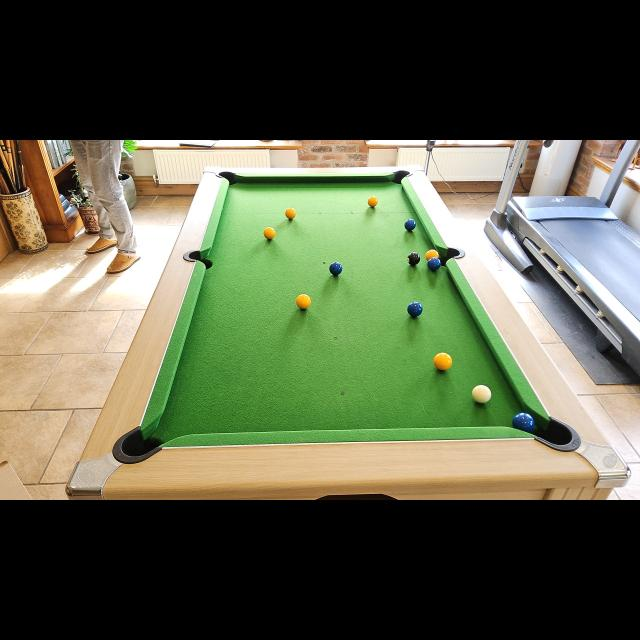Ball: (512, 412, 534, 432), (472, 386, 492, 404), (434, 352, 452, 370), (407, 301, 423, 317), (296, 294, 312, 310), (329, 262, 343, 276), (408, 252, 420, 266), (428, 257, 440, 271), (264, 227, 276, 239), (426, 250, 438, 262), (404, 219, 416, 231), (286, 207, 296, 219), (368, 196, 378, 207)
